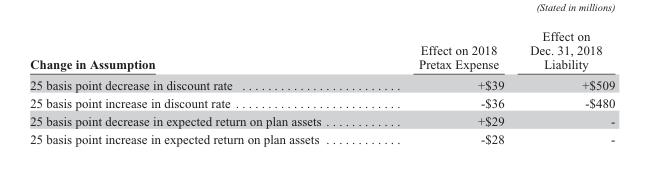table: (29, 28, 614, 146)
table column: (29, 28, 369, 146), (369, 28, 516, 146), (516, 28, 614, 146)
table column header: (29, 28, 614, 74)
table row: (29, 28, 614, 74), (29, 74, 614, 93), (29, 93, 614, 111), (29, 111, 614, 129), (29, 129, 614, 146)
